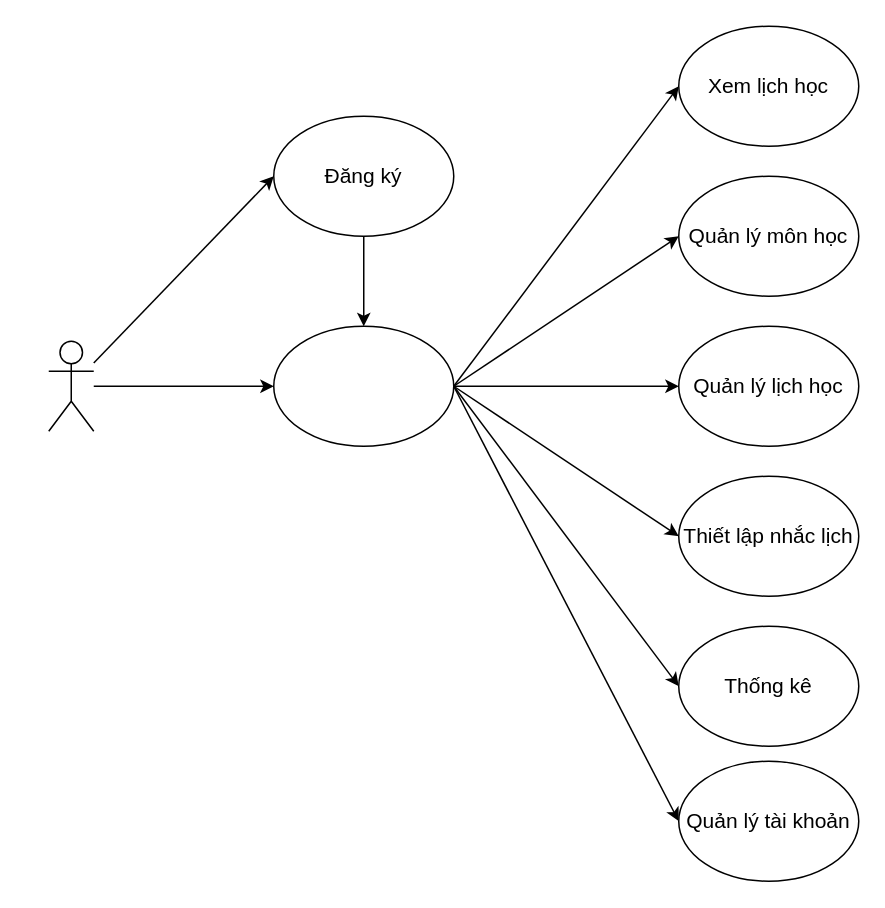
This 885x908 diagram has some shape labels left out. Here are the shapes that lost their labels. From the top down, the centre of each, then its label:
(x=70, y=385): Sinh Viên
(x=363, y=385): Đăng nhập
